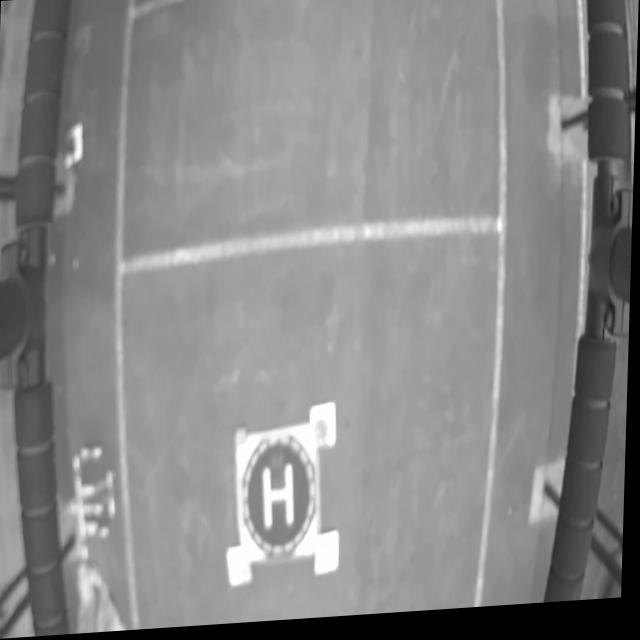Helipad: (264, 466, 296, 532)
